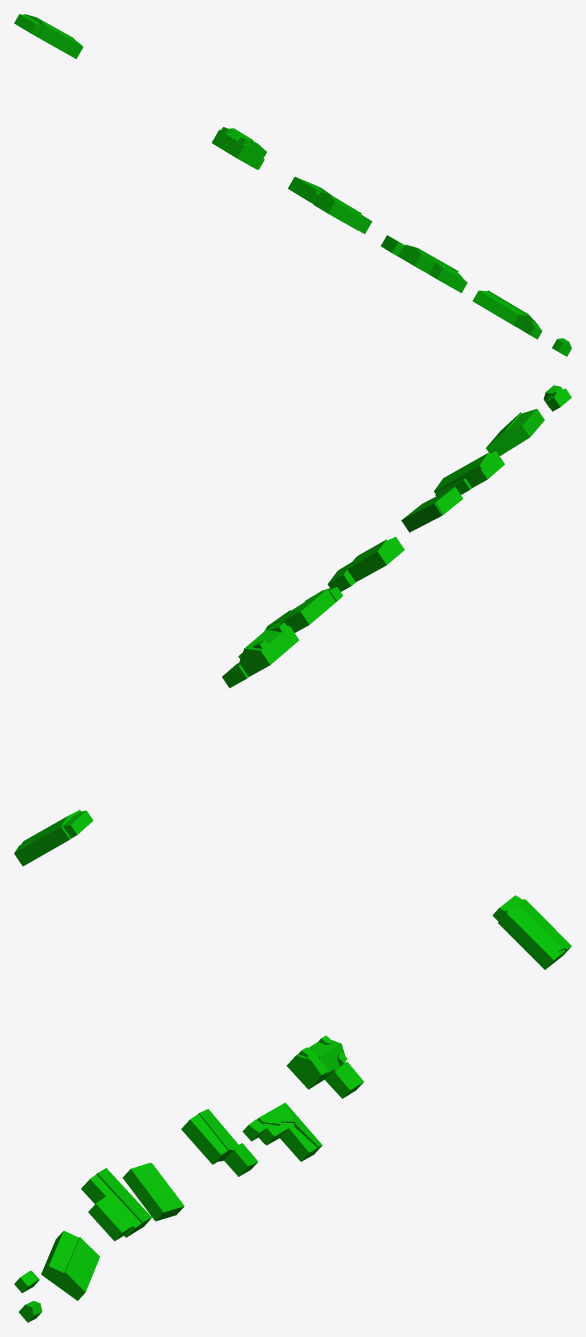
3 renders of one model, top to bottom at view 1: azimuth 30°, elevation 25°; view 2: azimuth 150°, elevation 25°; view 3: azimuth 330°, elevation 25°, orthographic. The views are drawn at different scales.
Parts seen in each view (by area): view 1: mesh; view 2: mesh; view 3: mesh.
Part boxes in pixels (x1,y1,x2,y2): mesh: (14, 14, 571, 356); mesh: (14, 385, 571, 866); mesh: (14, 895, 571, 1322).
Bounding box in the file's own units: 20.33 × 21.32 × 220.
